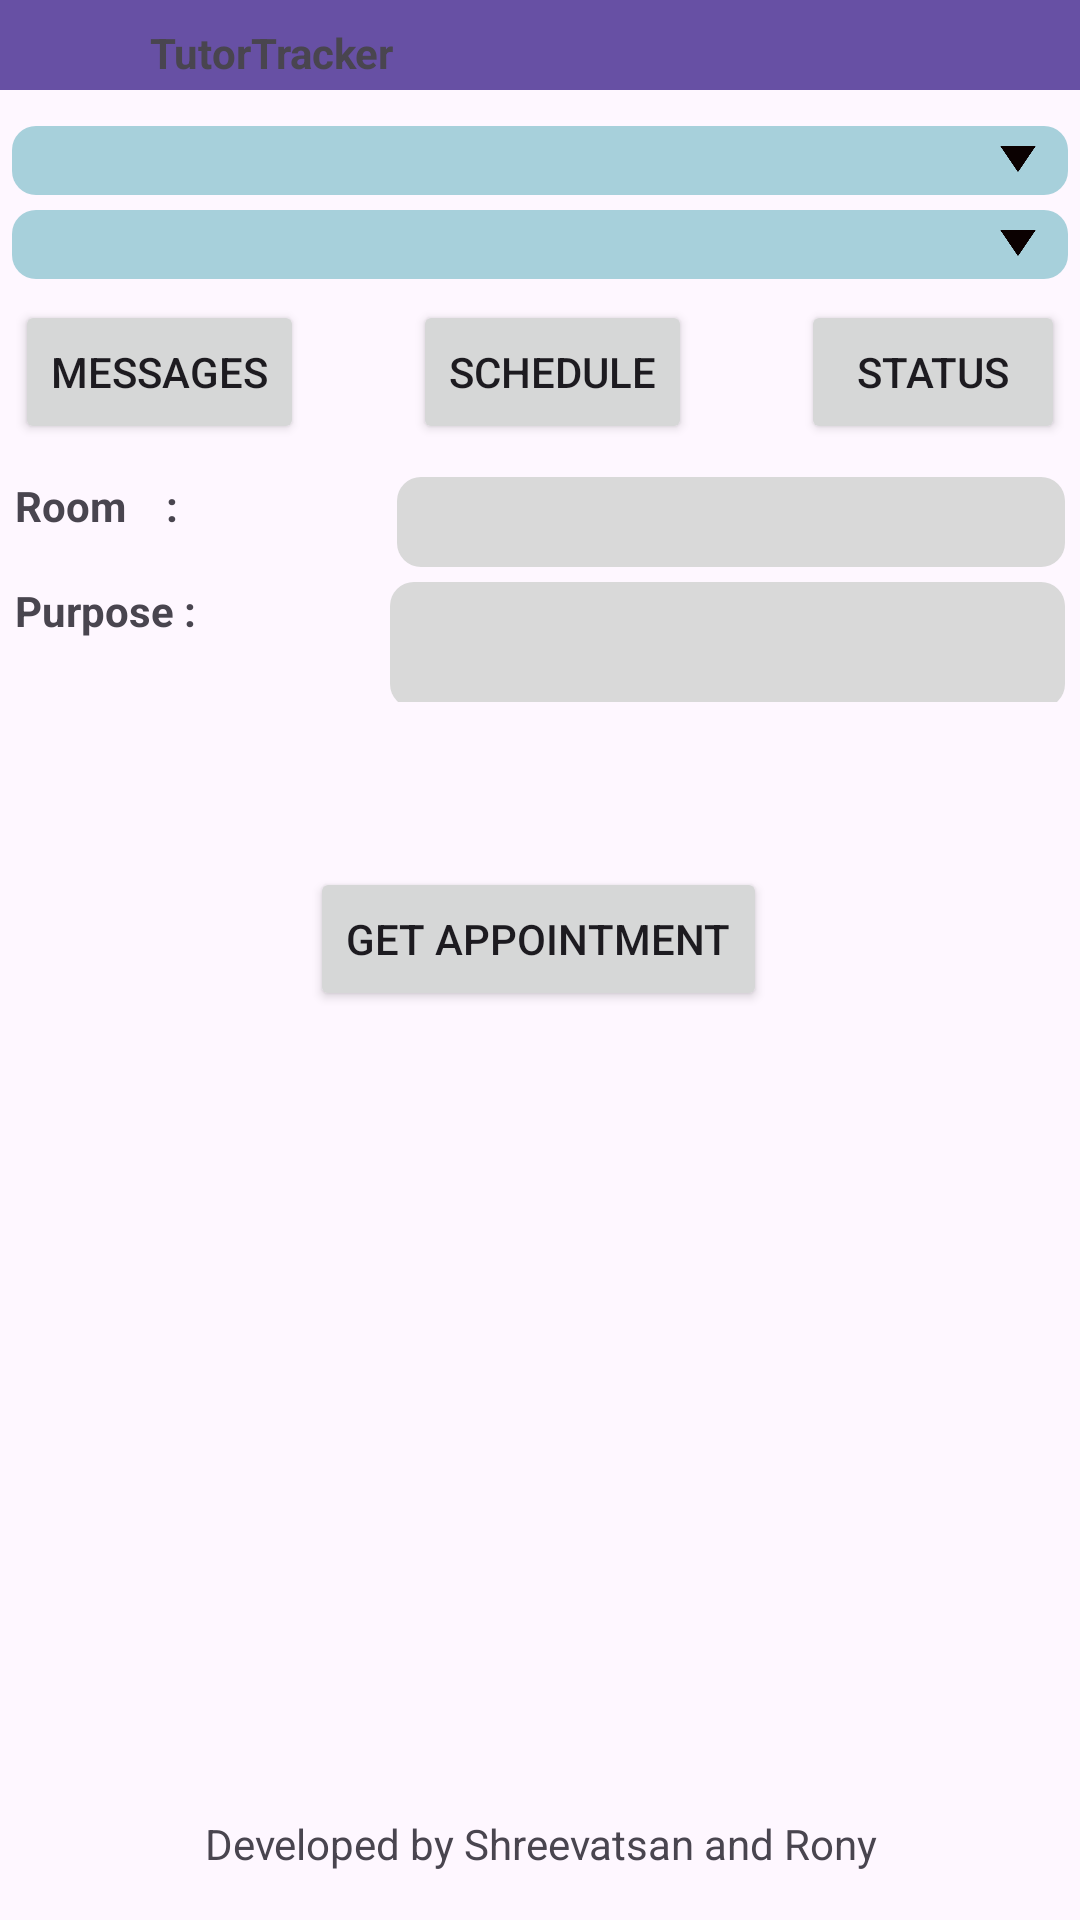

Icon bounding boxes for this 1080×1920 phone screenshot, format bbox=[x1, y1, x2, y2]:
triangle: bbox=[1000, 146, 1036, 172], bbox=[1000, 230, 1036, 256]
